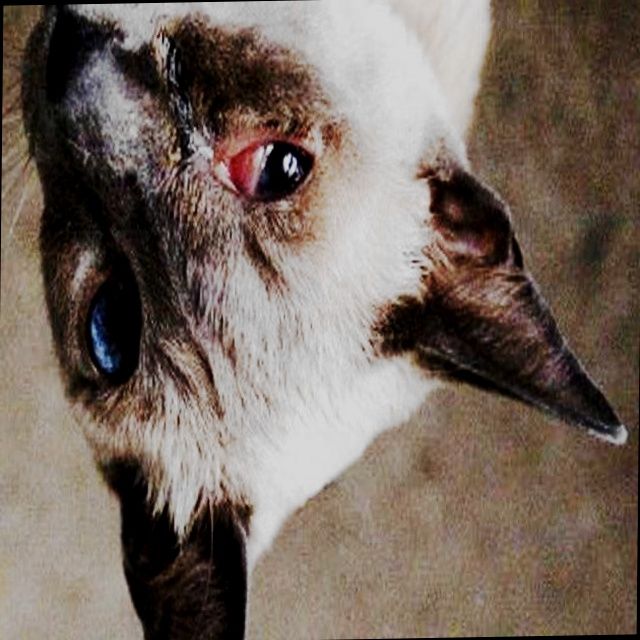eye_infection: (210, 142, 322, 201)
